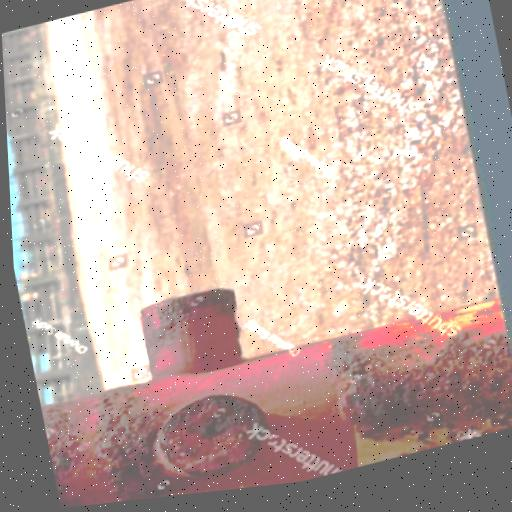corrosion: (318, 295, 512, 465), (85, 370, 194, 505), (132, 274, 249, 359)
